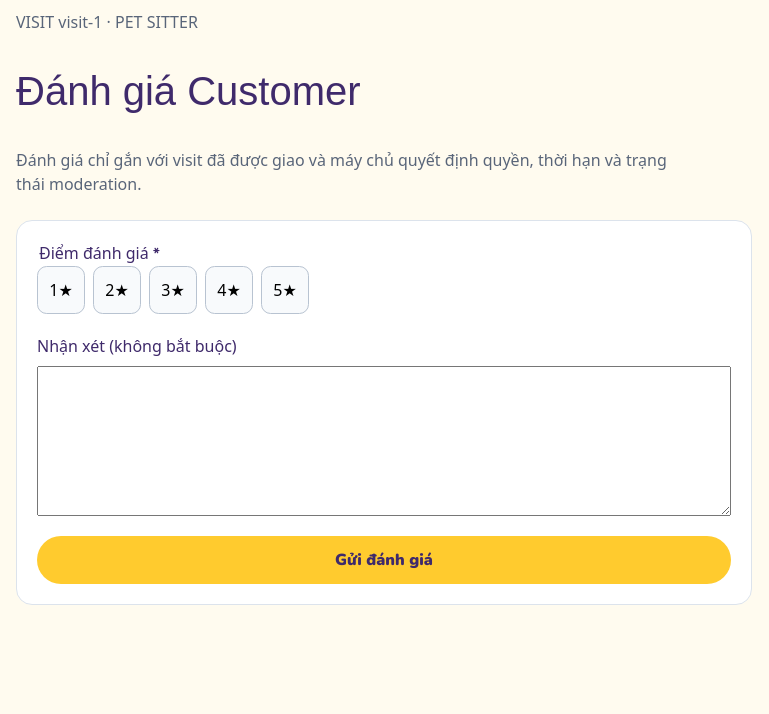
Test: Sitter sees pending without a success claim
The width and height of the screenshot is (769, 714).
Click the button named "5 sao" at (285, 290), box x1=261 y1=266 x2=309 y2=314
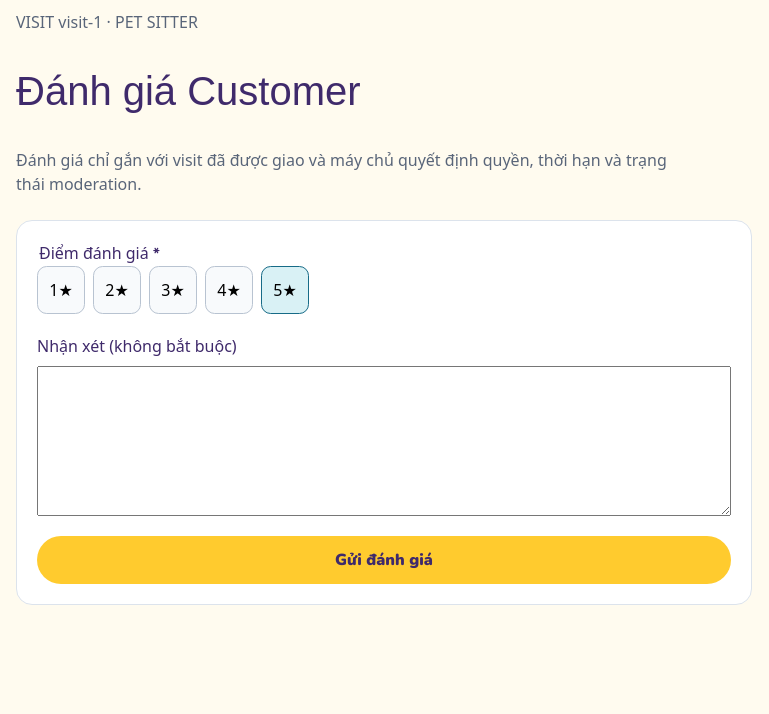
Click the button "Gửi đánh giá" at (384, 560), box x1=37 y1=536 x2=731 y2=584
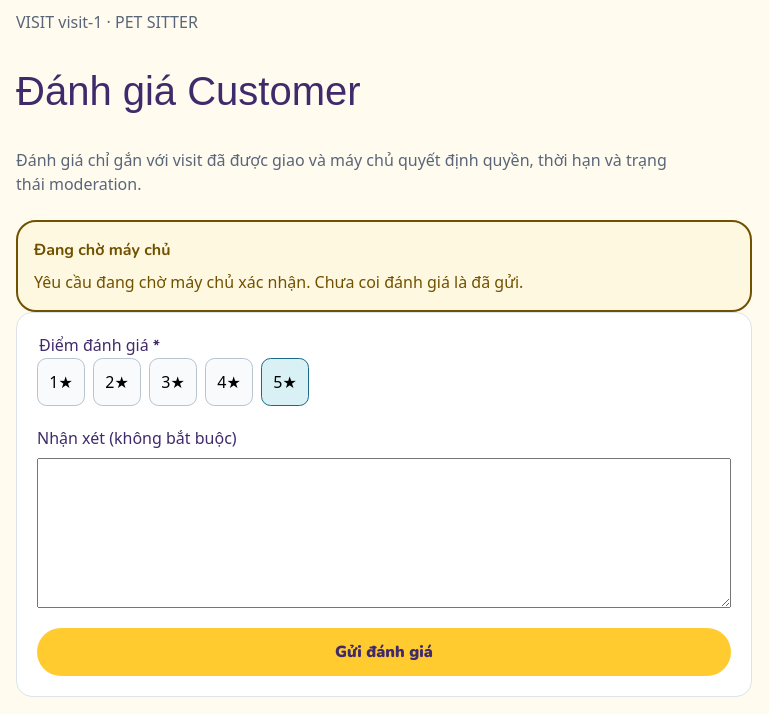
Expected: the heading "Đang chờ máy chủ" is shown, x1=34 y1=239 x2=170 y2=261
